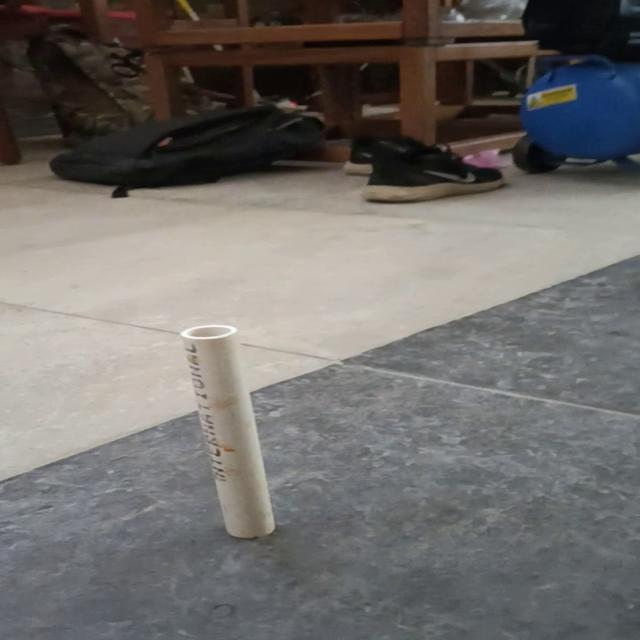Cube: (177, 323, 277, 539)
